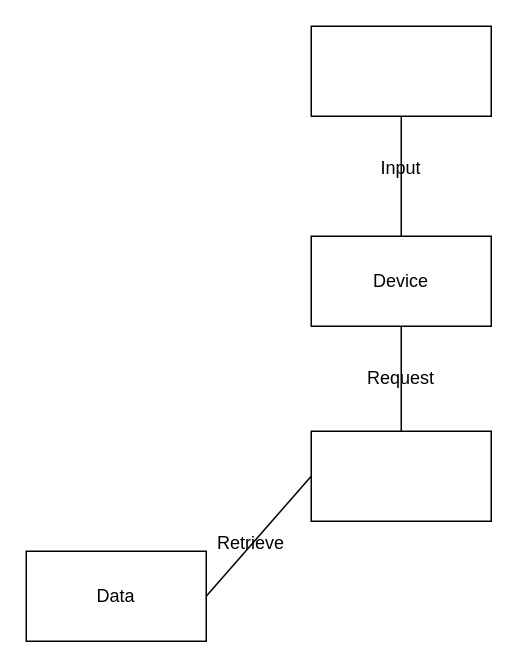
Image size: 518x668. Some labels were removed from this diagram. Here are the shapes that lost their labels. From the top down, the centre of each, then its label:
the point at 400,70: User
the point at 400,475: Server
